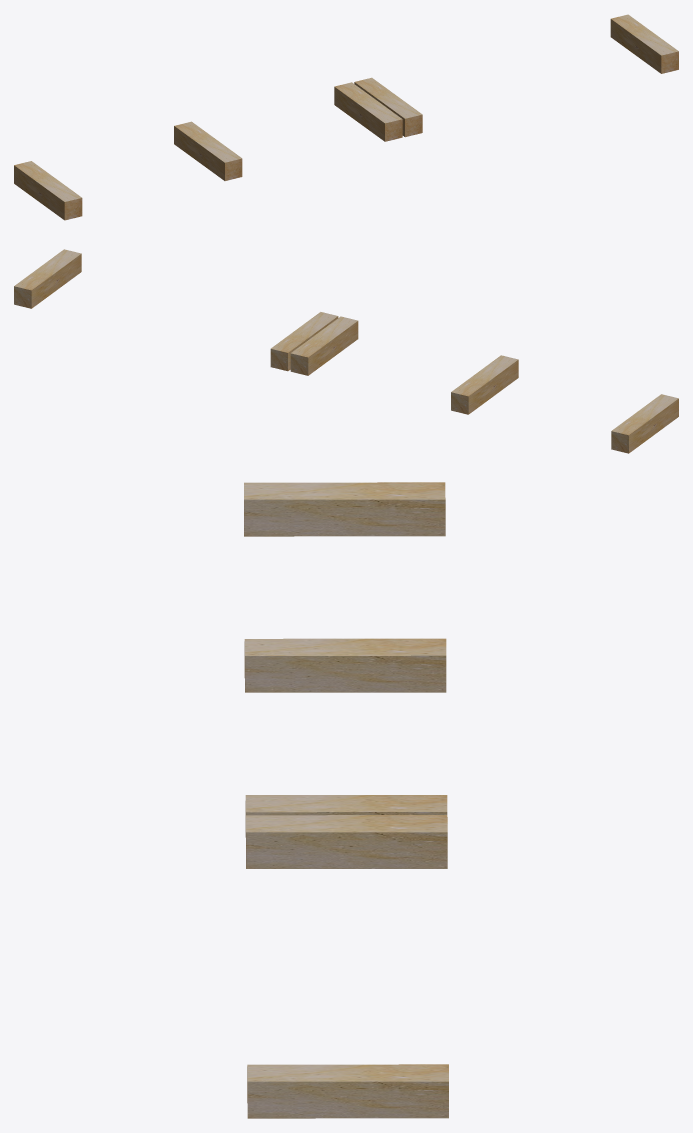
3 renders of one model, top to bottom at view 1: azimuth 30°, elevation 25°; view 2: azimuth 150°, elevation 25°; view 3: azimuth 270°, elevation 25°, orthographic. The views are drawn at different scales.
Visible parts, largest first — view 1: grupo2_Cubo.011; view 2: grupo2_Cubo.011; view 3: grupo2_Cubo.011.
Part boxes in pixels (x1,y1,x2,y2): grupo2_Cubo.011: (14, 14, 678, 220); grupo2_Cubo.011: (14, 249, 678, 453); grupo2_Cubo.011: (244, 482, 448, 1118).
Size of the model in its own units: 4.19 by 0.1217 by 0.6061.
5 materials, 5 textured.
